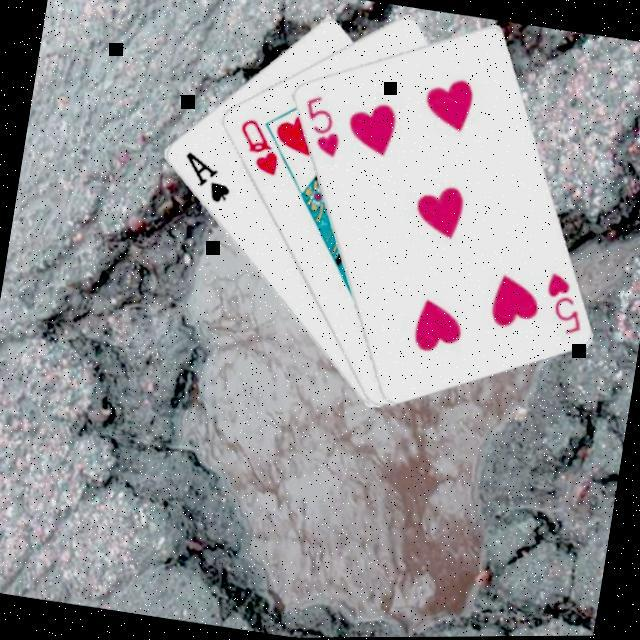5H: (291, 92, 347, 164), (534, 270, 590, 342)
AS: (172, 149, 236, 210)
QH: (227, 115, 286, 182)
